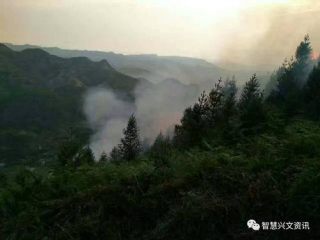fire: (309, 51, 319, 65)
smoke: (75, 67, 208, 167), (229, 4, 320, 65)
